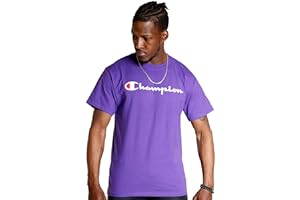design: (123, 80, 185, 96)
